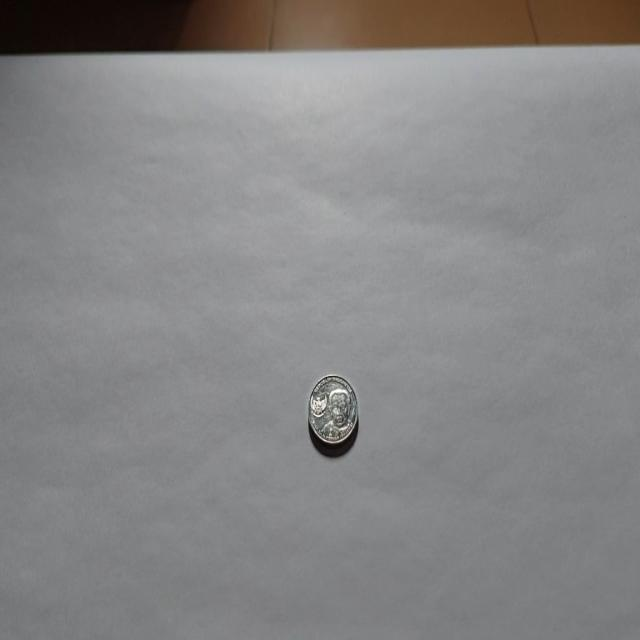seratus rupiah: (307, 372, 359, 452)
